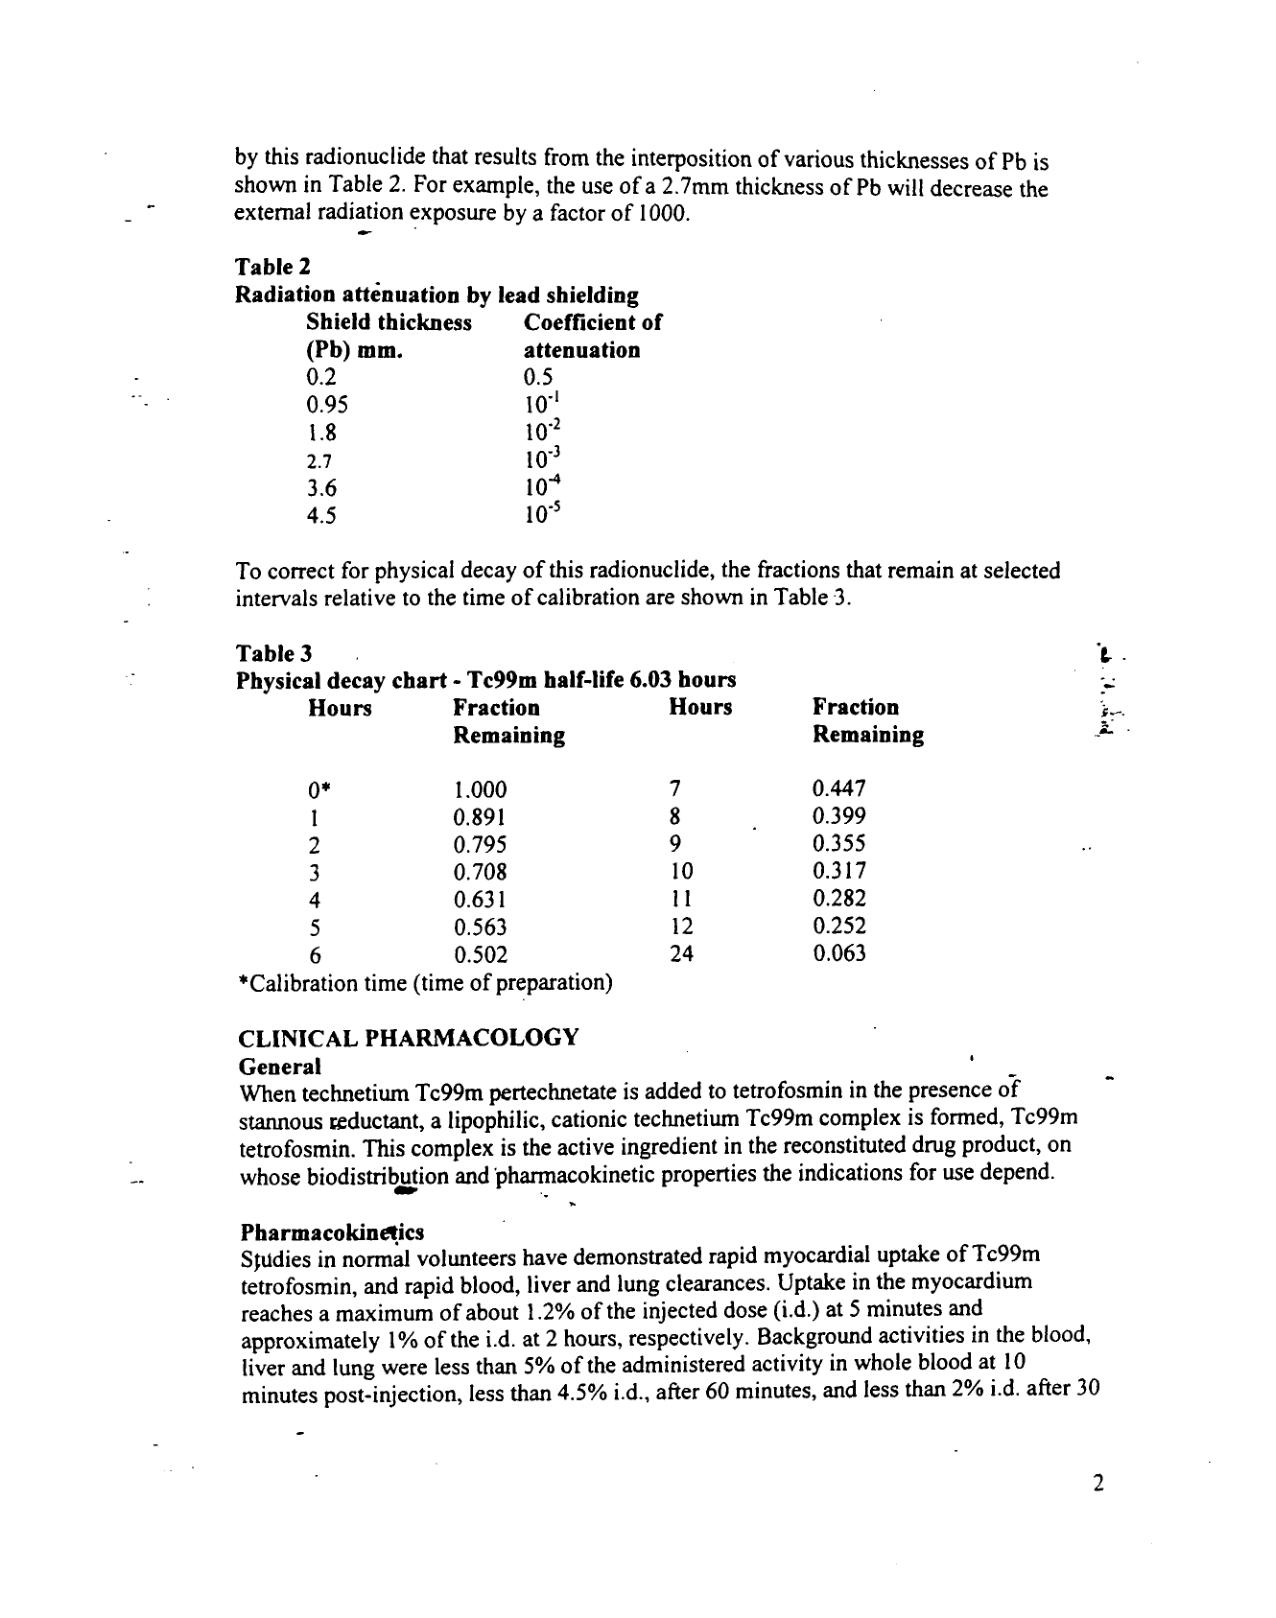nolines: (305, 695, 923, 967), (301, 310, 666, 529)
